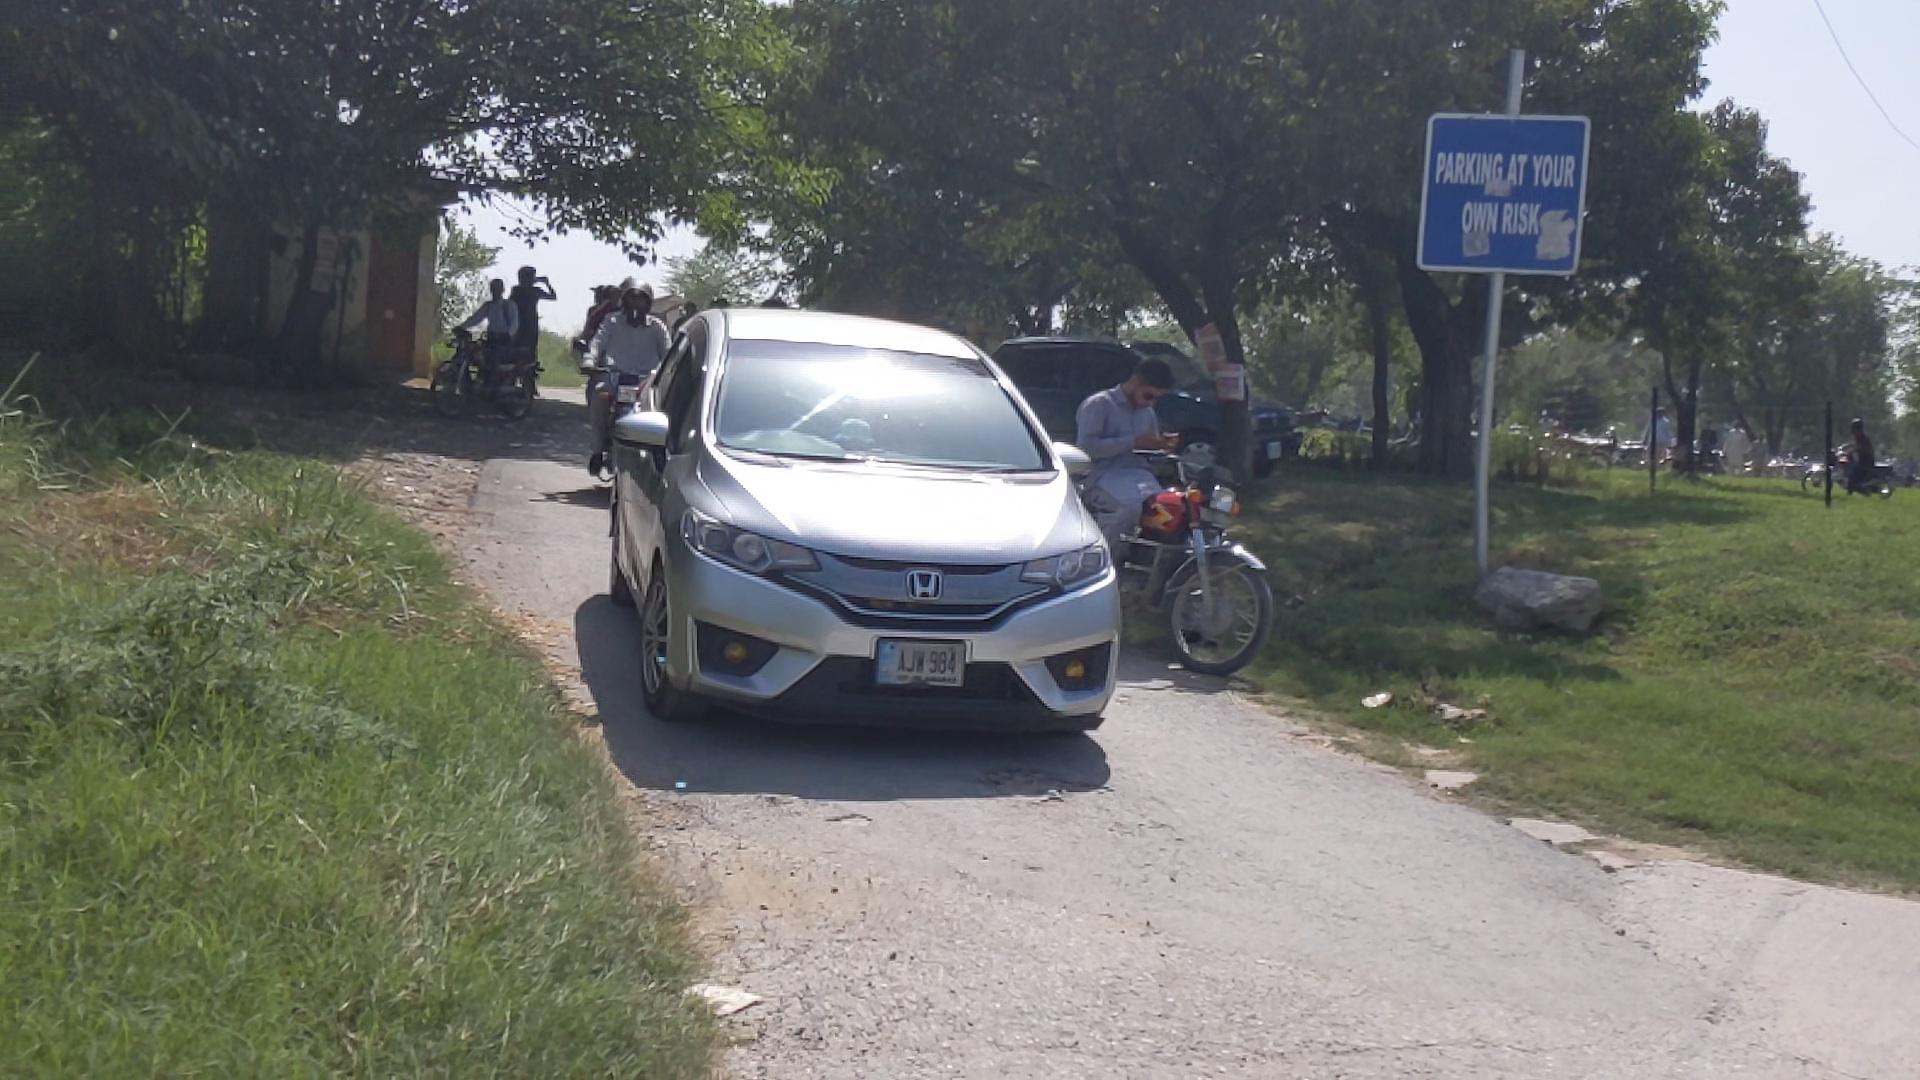windshield: (702, 332, 1073, 481)
